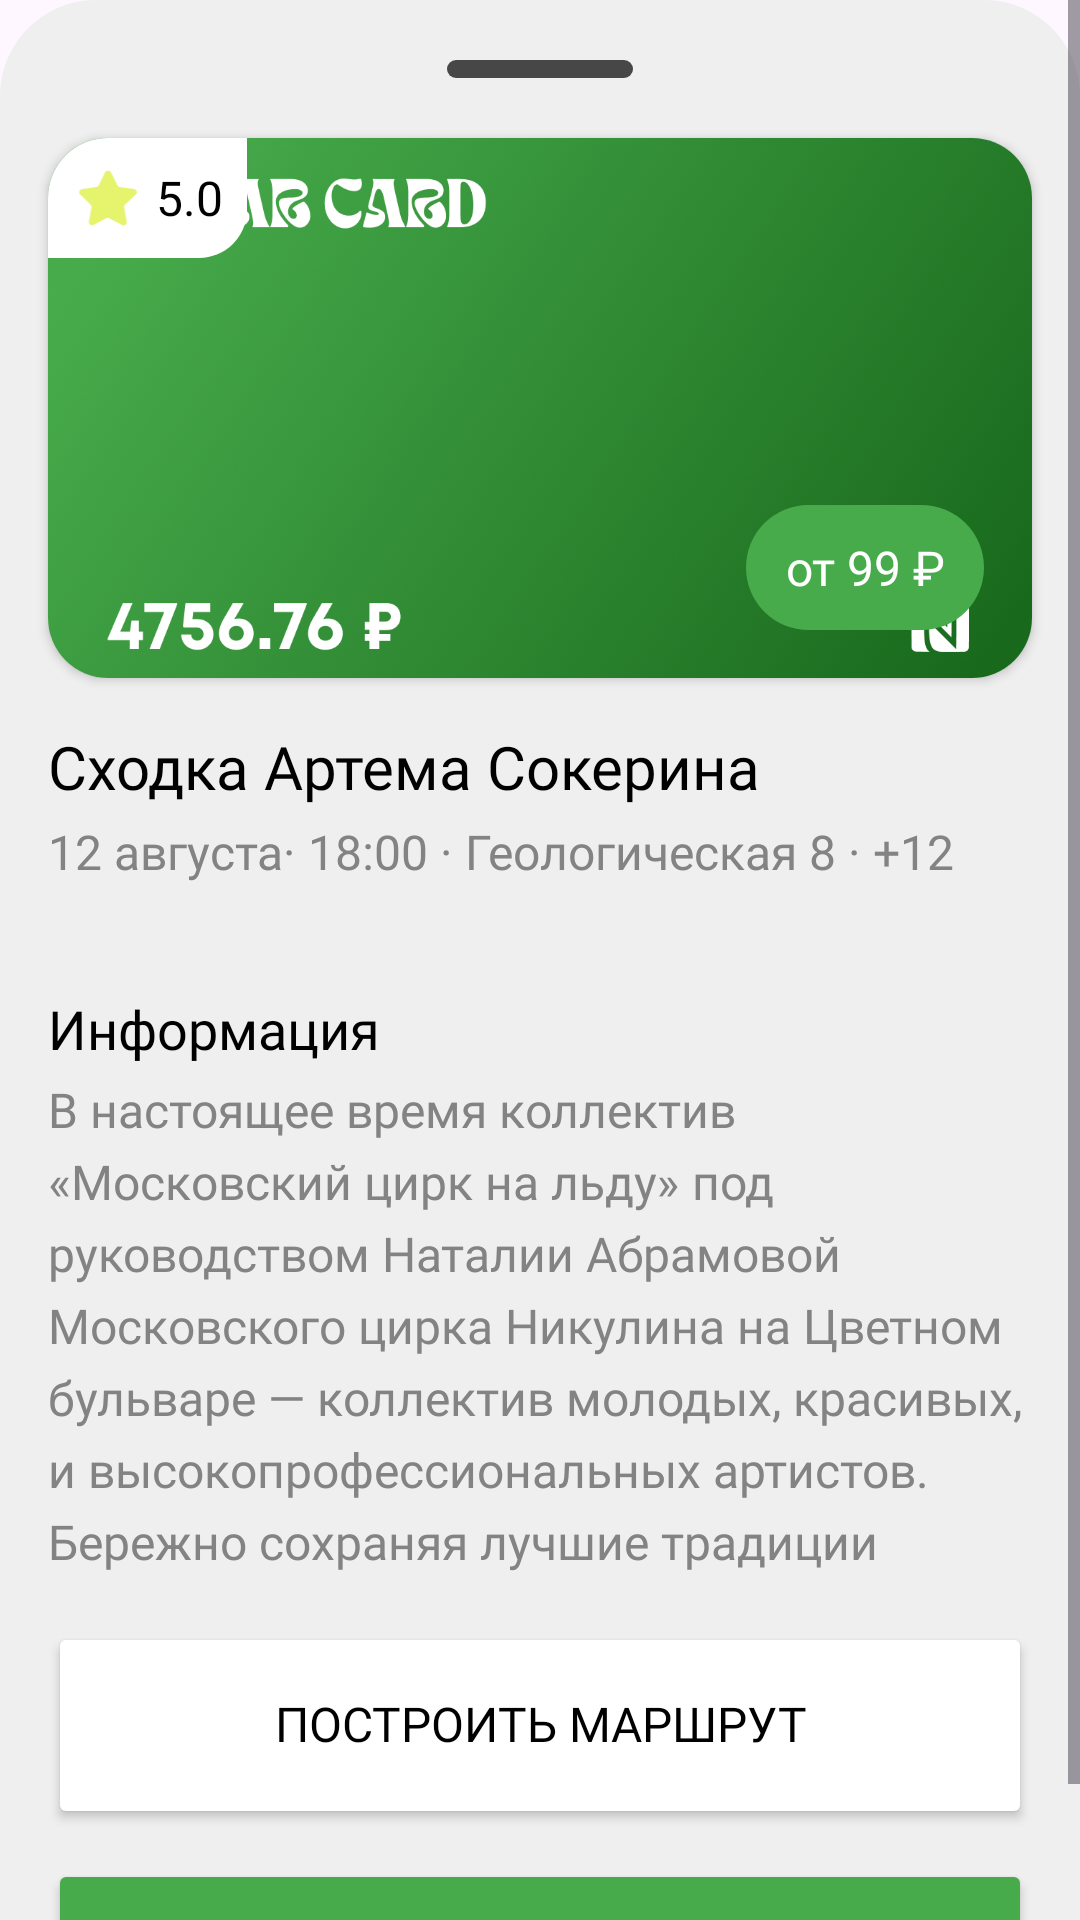

Named icons in this screenshot (1080px×1920px) and their bounding boxes, bbox=[x1, y1, x2, y2]:
star rating: bbox=[79, 170, 137, 226]
